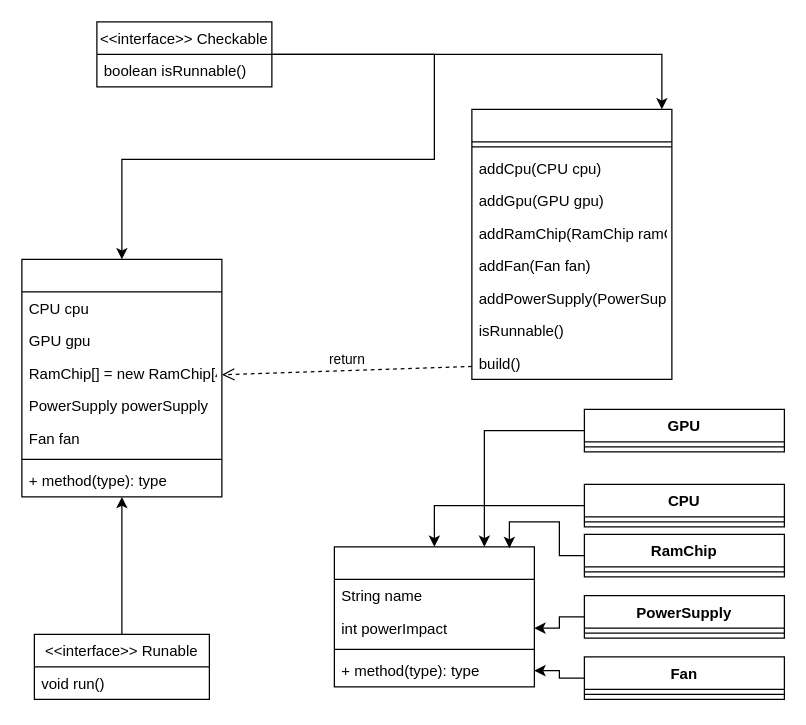
Some shapes in this 806 by 725 pixel diagram are drawn without their labels. Here are the shapes that lost their labels. From the top down, the box of each, then its label:
(471, 108, 672, 379): PCBuilder
(21, 258, 222, 497): PC
(333, 546, 534, 687): Component
